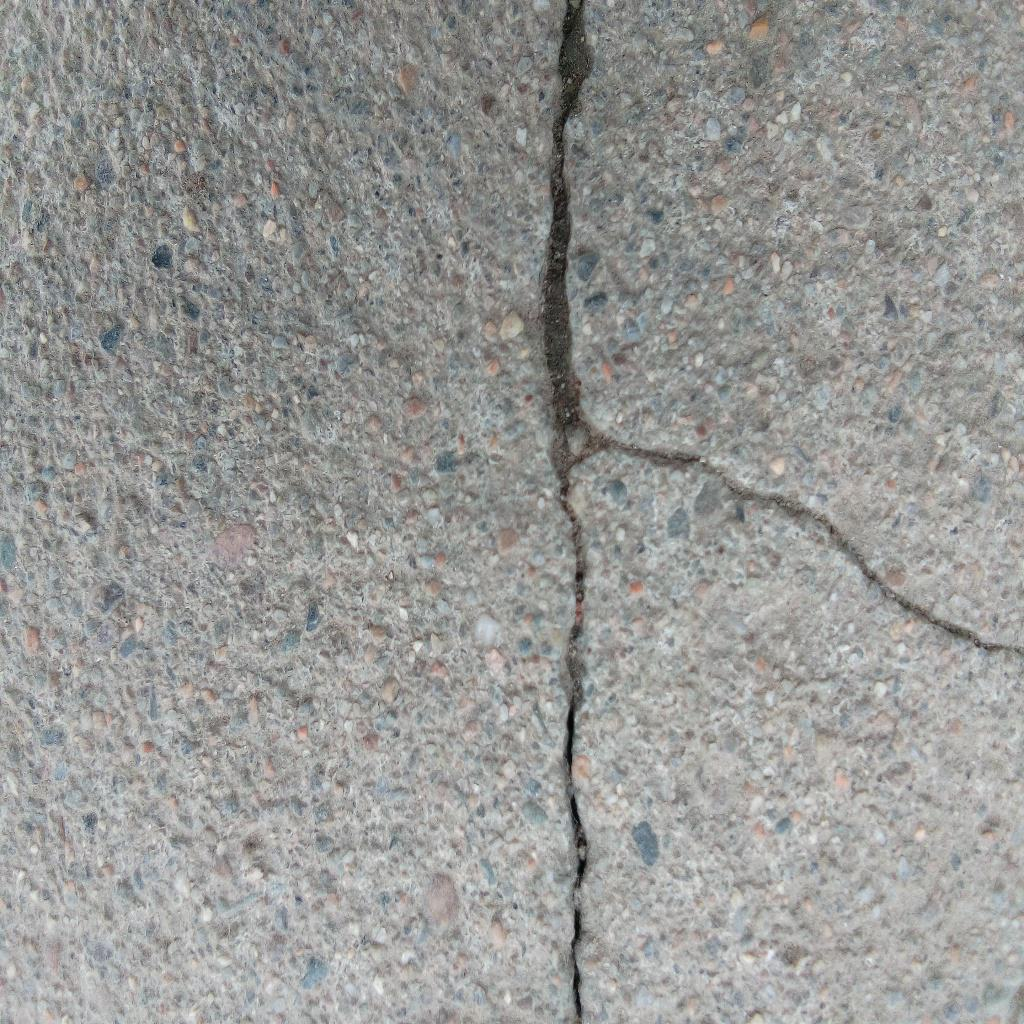Crack: (591, 432, 1024, 656), (542, 1, 591, 1024)
